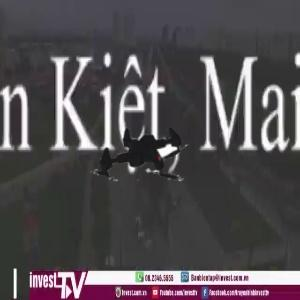drone: (73, 93, 213, 233)
